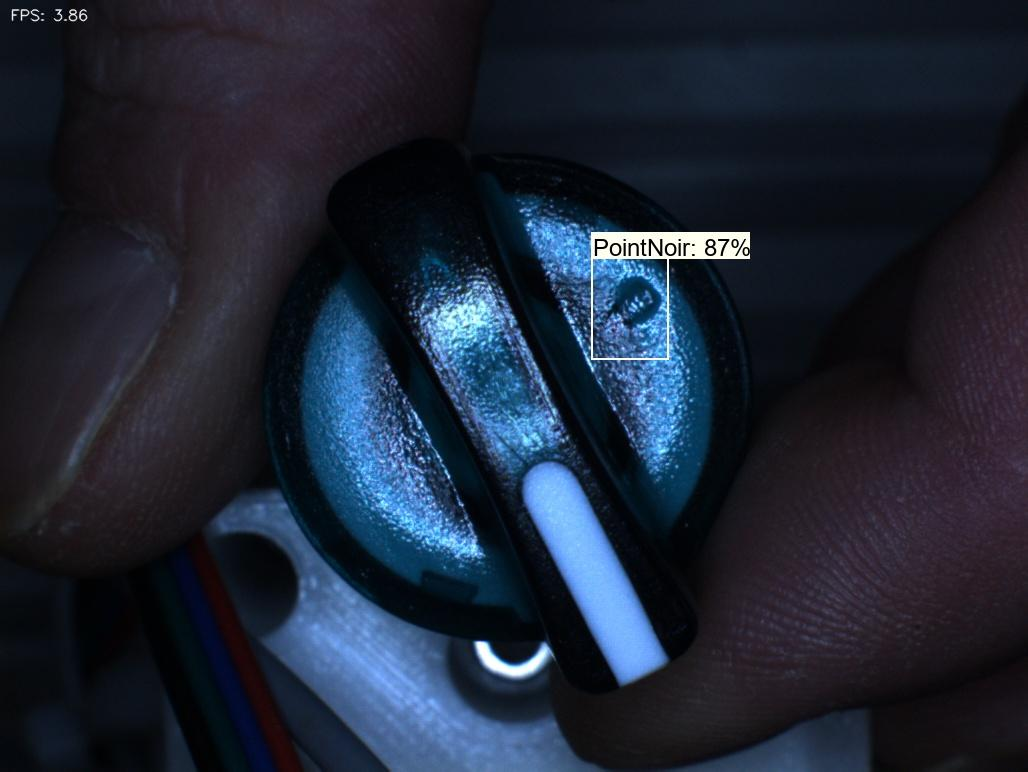Choc: (594, 269, 689, 348)
